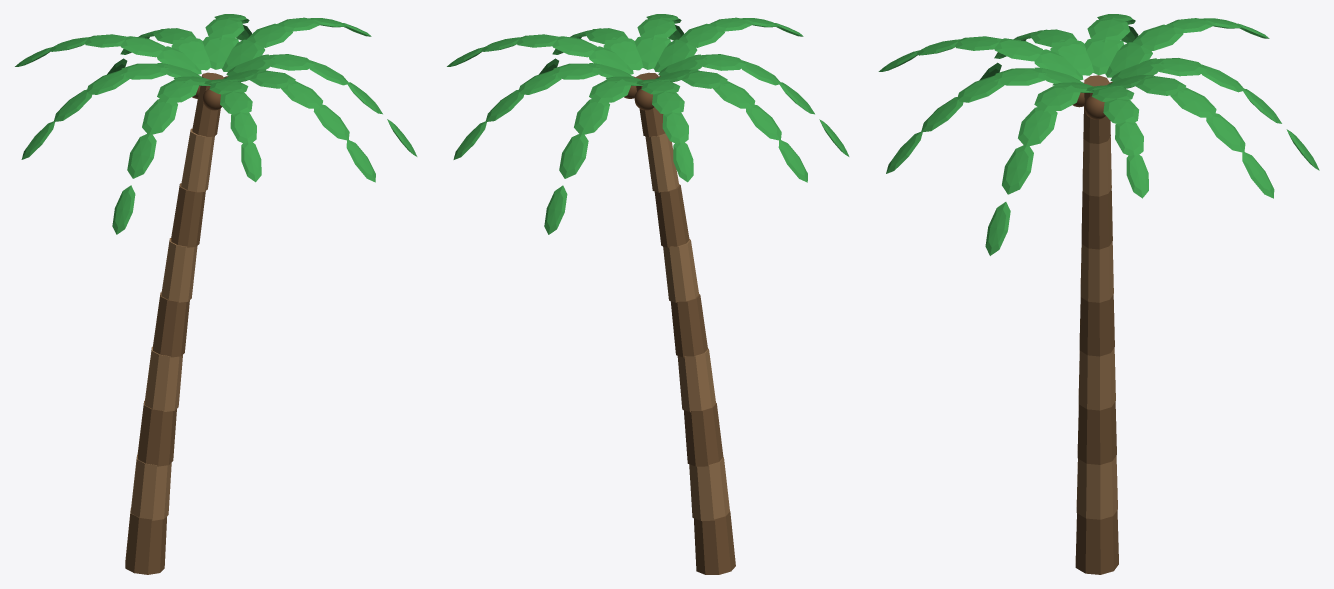
The model's file is journey_palm.glb.
3 views of the same model, side by side, from view 1: azimuth 30°, elevation 25°; view 2: azimuth 150°, elevation 25°; view 3: azimuth 270°, elevation 25° (orthographic). The views are drawn at different scales.
Visible parts, largest first — view 1: Crown, Trunk; view 2: Crown, Trunk; view 3: Crown, Trunk.
Boxes of the visible parts, x1,y1,x2,y2 form: Crown: [15, 14, 417, 234]; Trunk: [125, 72, 224, 574]; Crown: [447, 14, 849, 234]; Trunk: [635, 72, 735, 574]; Crown: [878, 14, 1319, 255]; Trunk: [1075, 75, 1118, 574].
Bounding box in the file's own units: 5.64 × 7.57 × 5.54.
